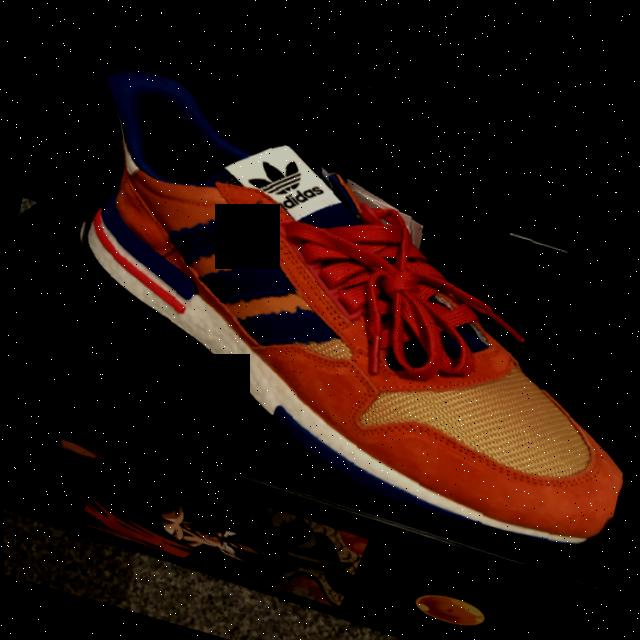shoe: (34, 53, 640, 554)
